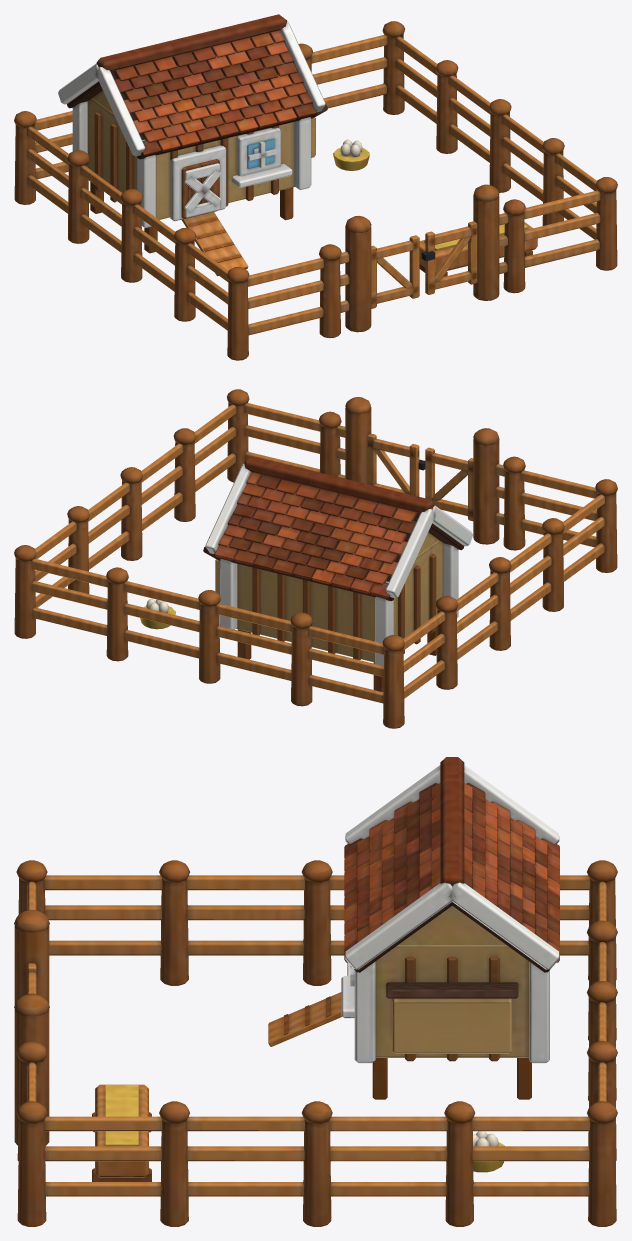
Rendered from gobbler_run.glb.
3 renders of one model, top to bottom at view 1: azimuth 30°, elevation 25°; view 2: azimuth 150°, elevation 25°; view 3: azimuth 270°, elevation 25°, orthographic. The views are drawn at different scales.
Parts seen in each view (by area): view 1: gobbler_run, gate1, gate0; view 2: gobbler_run, gate1, gate0; view 3: gobbler_run.
Boxes of the visible parts, box(x1,y1,x2,y2) form: gobbler_run: box(14, 14, 617, 360); gate1: box(421, 221, 477, 294); gate0: box(371, 235, 419, 308); gobbler_run: box(14, 389, 617, 728); gate1: box(367, 433, 425, 496); gate0: box(425, 447, 473, 521); gobbler_run: box(14, 757, 617, 1226).
Bounding box in the file's own units: 2 × 0.8813 × 2.01.
Materials: 1 (1 with a texture image).
